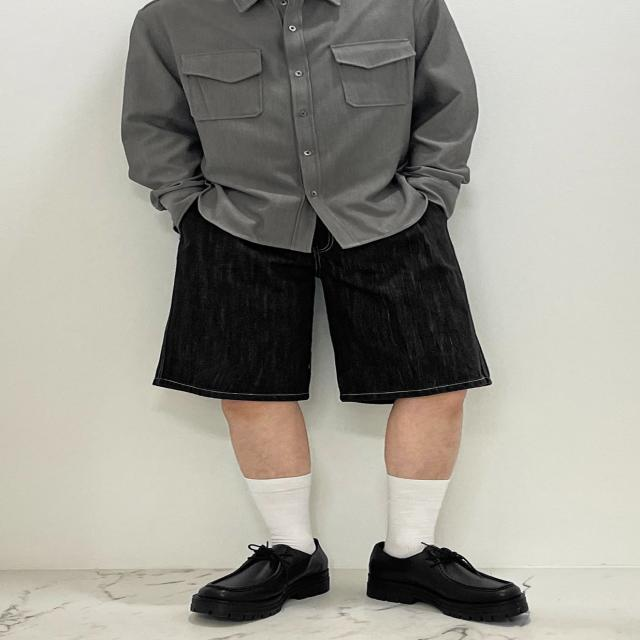shirt: (123, 0, 479, 252)
shortpants: (154, 186, 489, 404)
